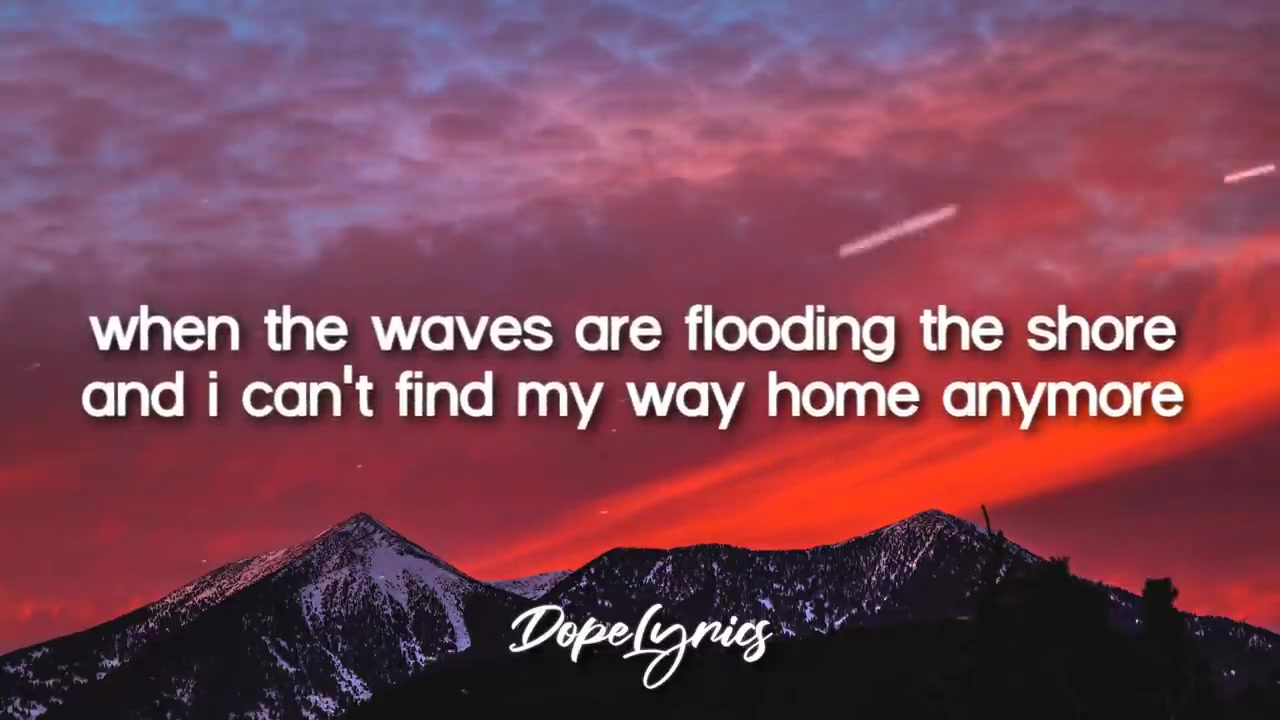text-label: (76, 362, 1191, 438), (84, 300, 1181, 368)
